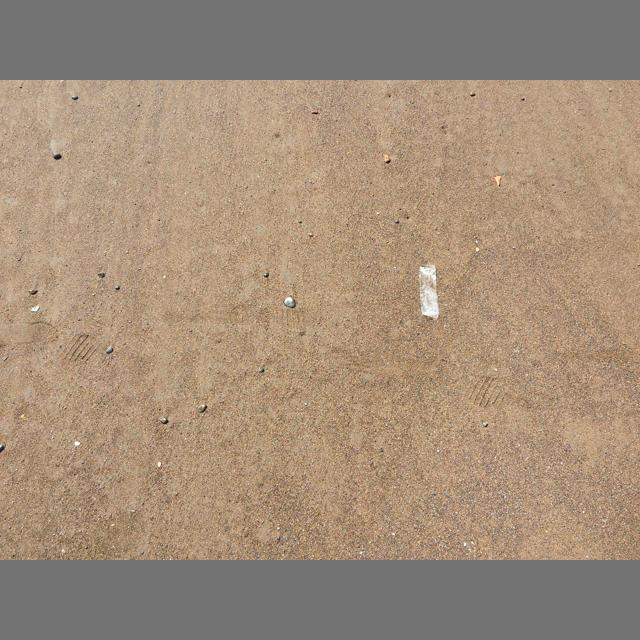litter: (419, 265, 439, 319)
